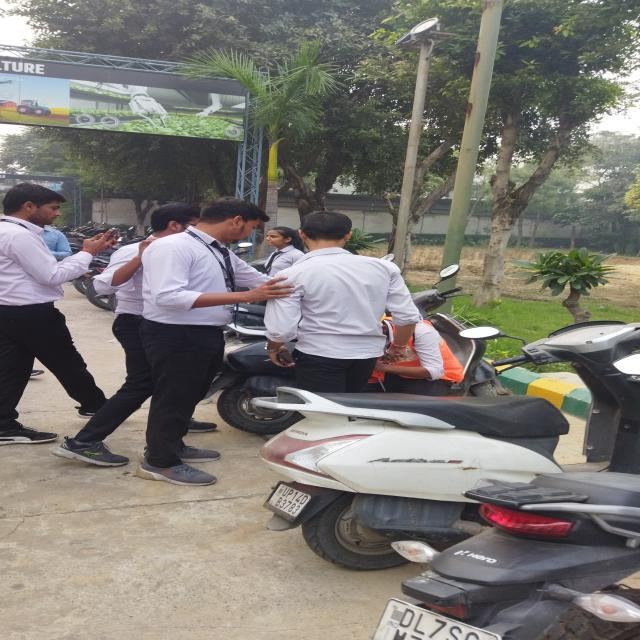unsafe: (142, 198, 272, 484), (2, 178, 114, 446), (267, 212, 419, 396), (264, 226, 304, 276)
